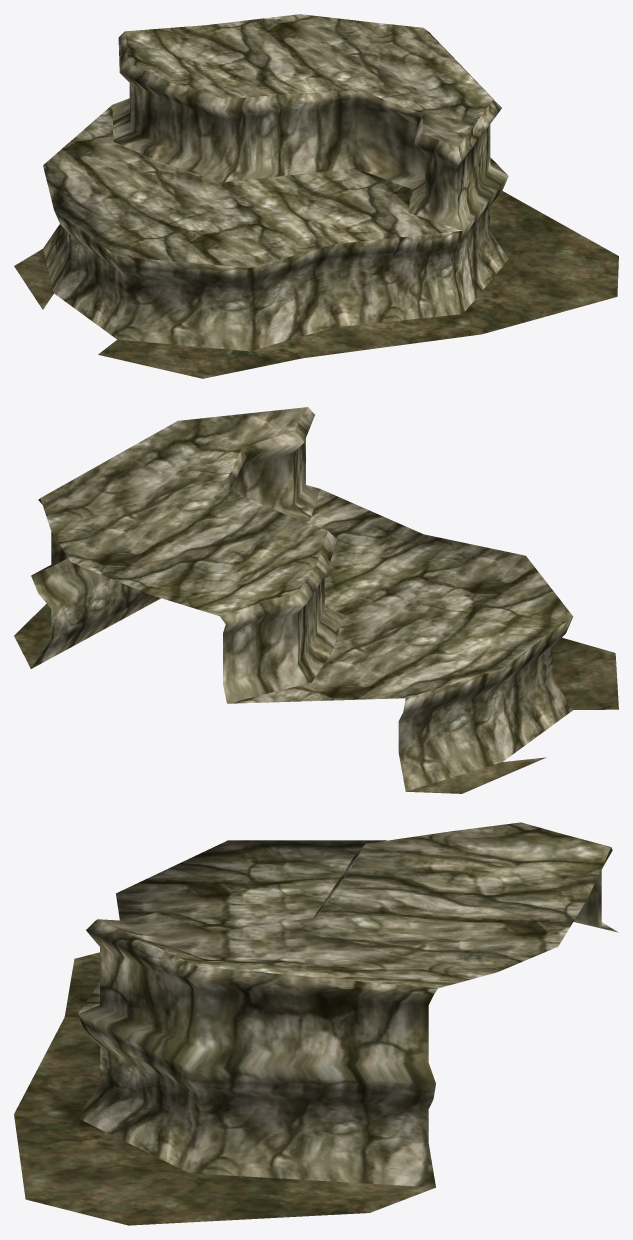
File: CB_NEWPLAYSURFACE_CB_PLAYSURFACE24.fbx
3 renders of one model, top to bottom at view 1: azimuth 30°, elevation 25°; view 2: azimuth 150°, elevation 25°; view 3: azimuth 270°, elevation 25°, orthographic. The views are drawn at different scales.
Parts seen in each view (by area): view 1: CB_NEWPLAYSURFACE_CB_PLAYSURFACE24; view 2: CB_NEWPLAYSURFACE_CB_PLAYSURFACE24; view 3: CB_NEWPLAYSURFACE_CB_PLAYSURFACE24.
Boxes of the visible parts, x1,y1,x2,y2 form: CB_NEWPLAYSURFACE_CB_PLAYSURFACE24: (14,14,618,378); CB_NEWPLAYSURFACE_CB_PLAYSURFACE24: (14,407,618,793); CB_NEWPLAYSURFACE_CB_PLAYSURFACE24: (14,822,618,1225).
Bounding box in the file's own units: 185421 × 57987 × 158244.
3 materials, 3 textured.
